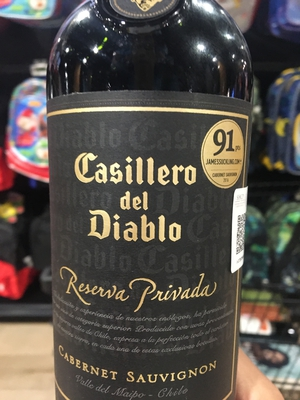casillero del diablo reserva privada cabernet sauvignon: (42, 11, 265, 400)
